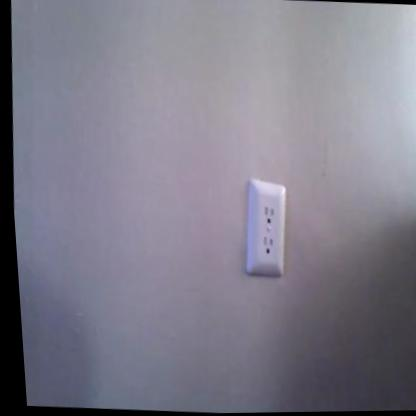OUTLET: (238, 175, 293, 277)
